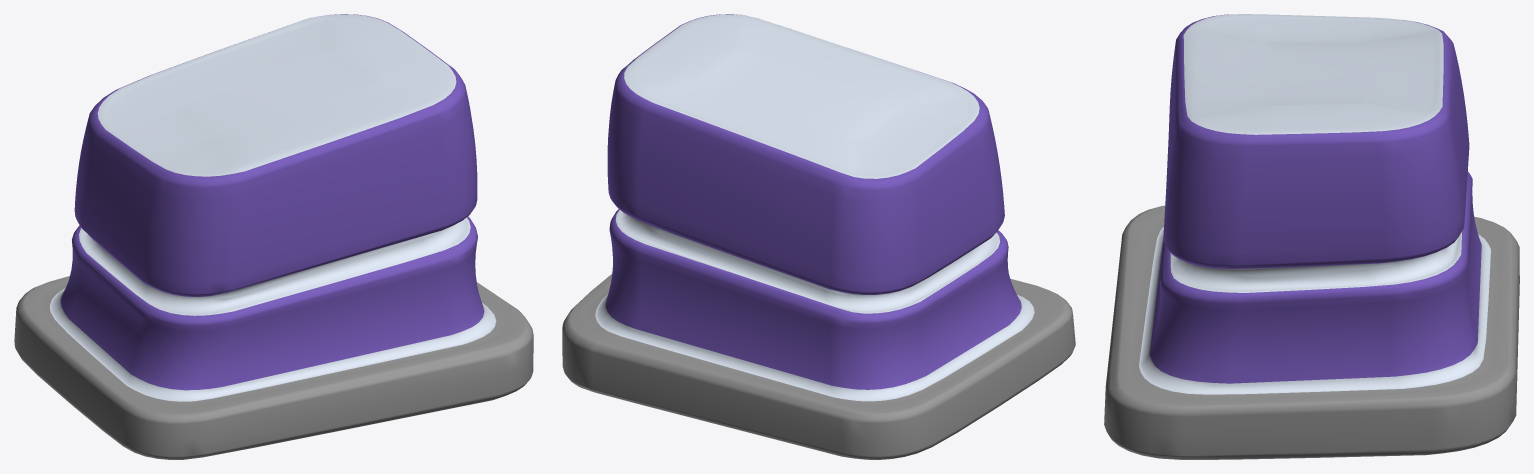
The model's file is SM_Building_03_Version_02_Part_01.fbx.
3 renders of one model, left to right at view 1: azimuth 30°, elevation 25°; view 2: azimuth 150°, elevation 25°; view 3: azimuth 270°, elevation 25°, orthographic. The views are drawn at different scales.
Parts seen in each view (by area): view 1: SM_Building_03_Version_02_Part_01; view 2: SM_Building_03_Version_02_Part_01; view 3: SM_Building_03_Version_02_Part_01.
Boxes of the visible parts, x1,y1,x2,y2 form: SM_Building_03_Version_02_Part_01: (14, 14, 533, 459); SM_Building_03_Version_02_Part_01: (562, 14, 1075, 459); SM_Building_03_Version_02_Part_01: (1104, 14, 1519, 459).
Size of the model in its own units: 5705 by 3884 by 4729.
